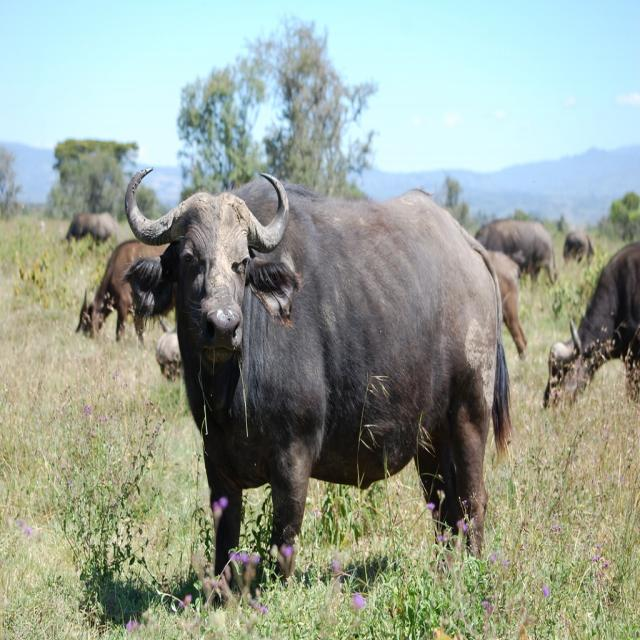Cattle: (65, 166, 640, 608)
